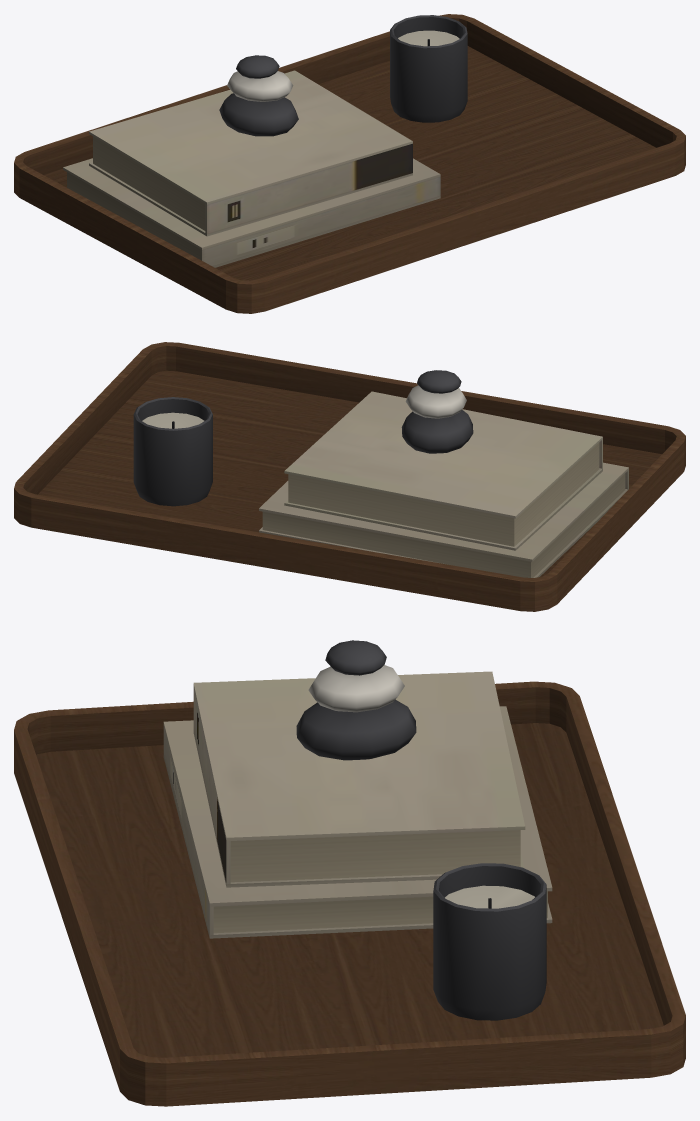
File: decor_a_table_ottoman.gltf
3 renders of one model, top to bottom at view 1: azimuth 30°, elevation 25°; view 2: azimuth 150°, elevation 25°; view 3: azimuth 270°, elevation 25°, orthographic. The views are drawn at different scales.
Visible parts, largest first — view 1: DecorATableOttoman_walnut_NoCollide, DecorATableOttoman_Book02_Spines_NoCollide, DecorATableOttoman_Book01_Spines_NoCollide, DecorATableOttoman_Candle01_Charcoal_NoCollide, DecorATableOttoman_Ornament01_Charcoal_NoCollide, DecorATableOttoman_Ornament01_Glaze_NoCollide, DecorATableOttoman_Candle01_Candle_NoCollide; view 2: DecorATableOttoman_walnut_NoCollide, DecorATableOttoman_Book02_Spines_NoCollide, DecorATableOttoman_Book01_Spines_NoCollide, DecorATableOttoman_Candle01_Charcoal_NoCollide, DecorATableOttoman_Ornament01_Charcoal_NoCollide, DecorATableOttoman_Ornament01_Glaze_NoCollide, DecorATableOttoman_Candle01_Candle_NoCollide; view 3: DecorATableOttoman_walnut_NoCollide, DecorATableOttoman_Book02_Spines_NoCollide, DecorATableOttoman_Book01_Spines_NoCollide, DecorATableOttoman_Candle01_Charcoal_NoCollide, DecorATableOttoman_Ornament01_Charcoal_NoCollide, DecorATableOttoman_Ornament01_Glaze_NoCollide, DecorATableOttoman_Candle01_Candle_NoCollide.
Boxes of the visible parts, x1,y1,x2,y2 form: DecorATableOttoman_walnut_NoCollide: [14, 14, 685, 313]; DecorATableOttoman_Book02_Spines_NoCollide: [89, 70, 412, 236]; DecorATableOttoman_Book01_Spines_NoCollide: [63, 158, 440, 267]; DecorATableOttoman_Candle01_Charcoal_NoCollide: [390, 15, 467, 122]; DecorATableOttoman_Ornament01_Charcoal_NoCollide: [219, 55, 298, 136]; DecorATableOttoman_Ornament01_Glaze_NoCollide: [227, 71, 293, 101]; DecorATableOttoman_Candle01_Candle_NoCollide: [398, 30, 459, 46]; DecorATableOttoman_walnut_NoCollide: [14, 342, 685, 611]; DecorATableOttoman_Book02_Spines_NoCollide: [284, 391, 602, 550]; DecorATableOttoman_Book01_Spines_NoCollide: [259, 462, 628, 577]; DecorATableOttoman_Candle01_Charcoal_NoCollide: [133, 397, 212, 506]; DecorATableOttoman_Ornament01_Charcoal_NoCollide: [401, 370, 473, 453]; DecorATableOttoman_Ornament01_Glaze_NoCollide: [405, 385, 466, 418]; DecorATableOttoman_Candle01_Candle_NoCollide: [142, 412, 204, 428]; DecorATableOttoman_walnut_NoCollide: [14, 681, 685, 1106]; DecorATableOttoman_Book02_Spines_NoCollide: [193, 671, 525, 887]; DecorATableOttoman_Book01_Spines_NoCollide: [163, 706, 552, 938]; DecorATableOttoman_Candle01_Charcoal_NoCollide: [433, 863, 546, 1020]; DecorATableOttoman_Ornament01_Charcoal_NoCollide: [296, 640, 416, 760]; DecorATableOttoman_Ornament01_Glaze_NoCollide: [308, 665, 404, 712]; DecorATableOttoman_Candle01_Candle_NoCollide: [445, 885, 534, 908].
Size of the model in its own units: 0.6641 by 0.1665 by 0.4939.
6 materials, 2 textured.
